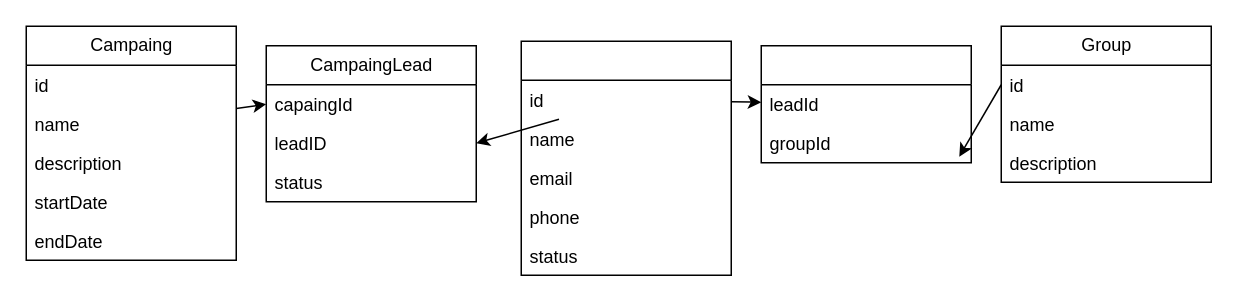
Image size: 1238x306. Some labels were removed from this diagram. Each missing label, with the box of its shape:
Group_Lead: (760, 44, 971, 163)
Lead: (520, 40, 731, 275)
